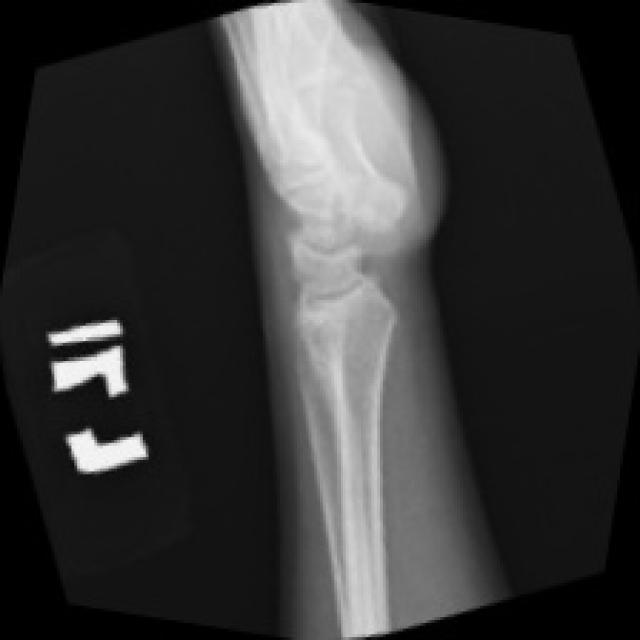fracture: (273, 166, 446, 371)
